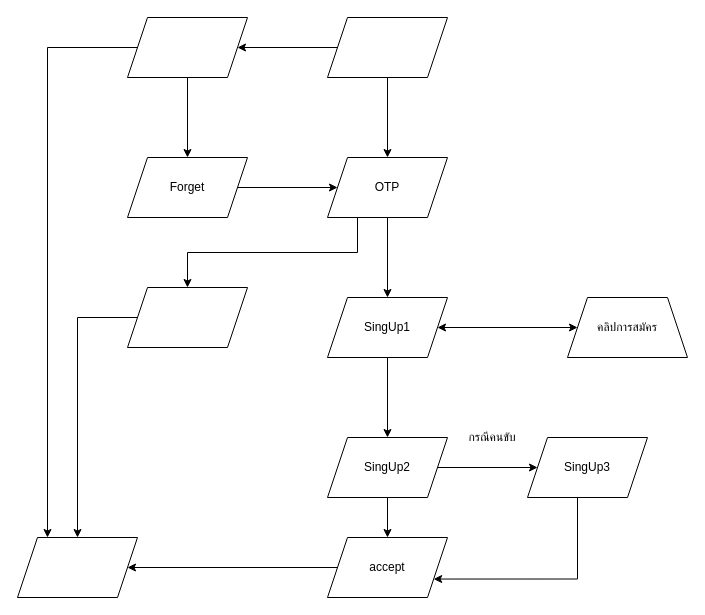
Some shapes in this 705 by 615 pixel diagram are drawn without their labels. The centre of each missing label's shape, as x and y in pixels:
ChangePass: [187,317]
Homepage: [77,567]
LogIn: [187,47]
welcome: [387,47]
